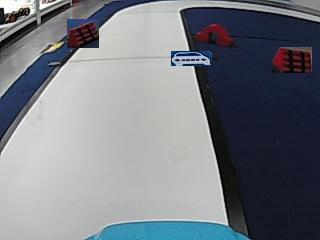bridge: (195, 23, 232, 46)
